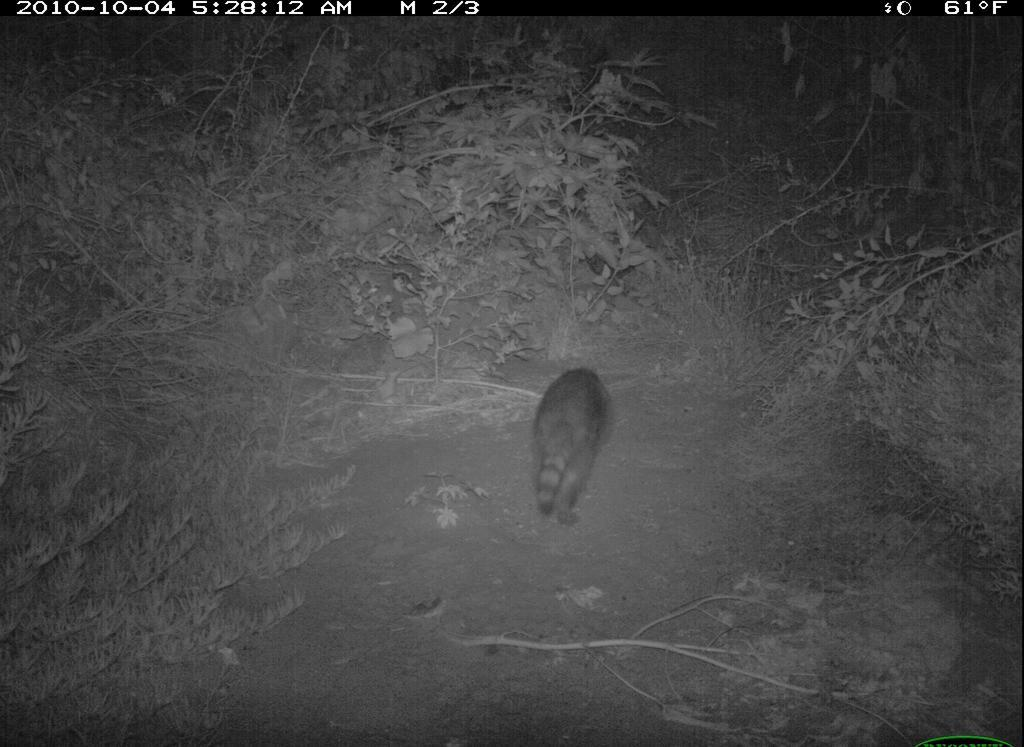raccoon: (519, 364, 621, 532)
